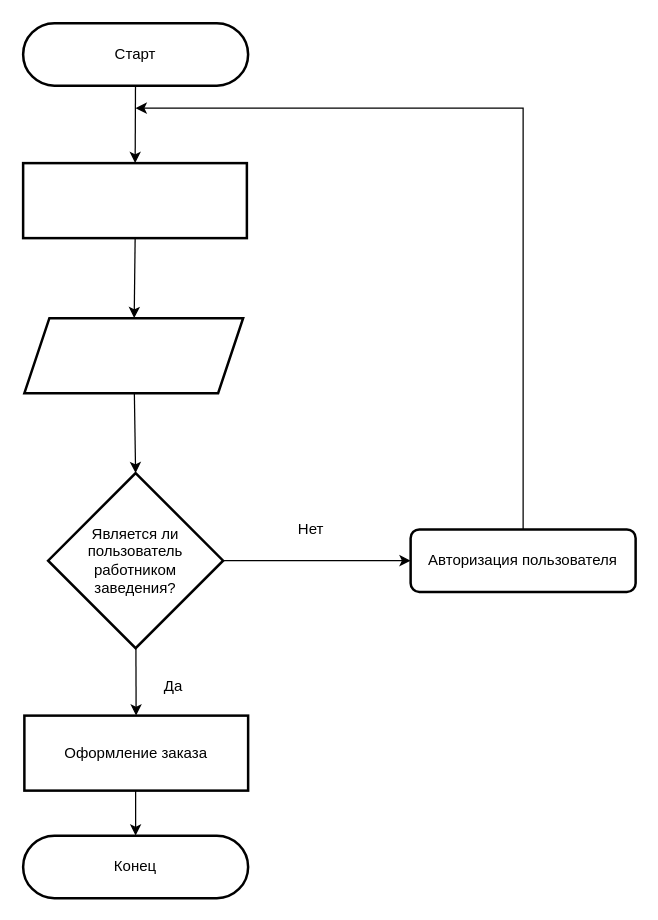
Image size: 658x920. Some labels were removed from this diagram. The centre of each missing label's shape, as x and y in pixels:
Выбор позиции из меню: the point at 133,355
Переход на главную страницу: the point at 134,200
